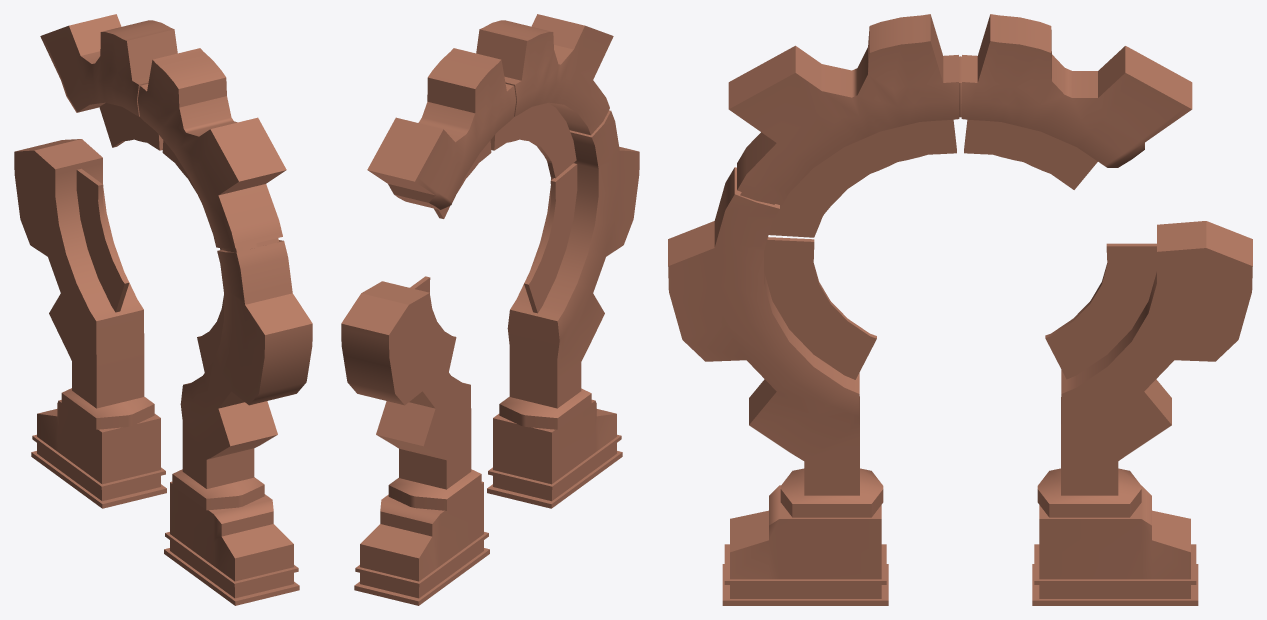
File: Gated.fbx
3 renders of one model, left to right at view 1: azimuth 30°, elevation 25°; view 2: azimuth 150°, elevation 25°; view 3: azimuth 270°, elevation 25°, orthographic. The views are drawn at different scales.
Parts seen in each view (by area): view 1: Gate, Stand01, Stand02; view 2: Gate, Stand02, Stand01; view 3: Gate, Stand01, Stand02.
Part boxes in pixels (x1,y1,x2,y2): Gate: (14, 14, 312, 510); Stand01: (164, 481, 299, 605); Stand02: (31, 400, 166, 508); Gate: (341, 14, 639, 510); Stand02: (354, 481, 489, 605); Stand01: (487, 399, 622, 508); Gate: (668, 14, 1252, 517); Stand01: (722, 485, 888, 605); Stand02: (1032, 485, 1198, 605).
Size of the model in its own units: 2.51 by 17.78 by 16.86.
